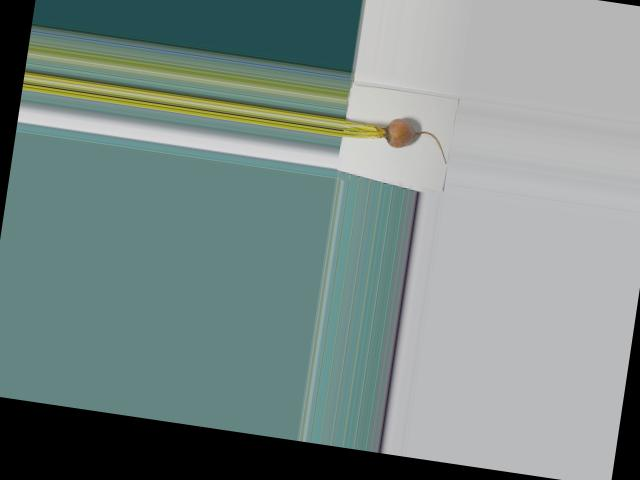beet: (340, 110, 451, 163)
